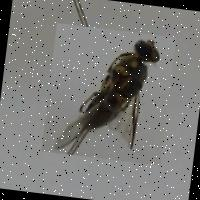Oriental-fruit-fly: (40, 23, 175, 166)
